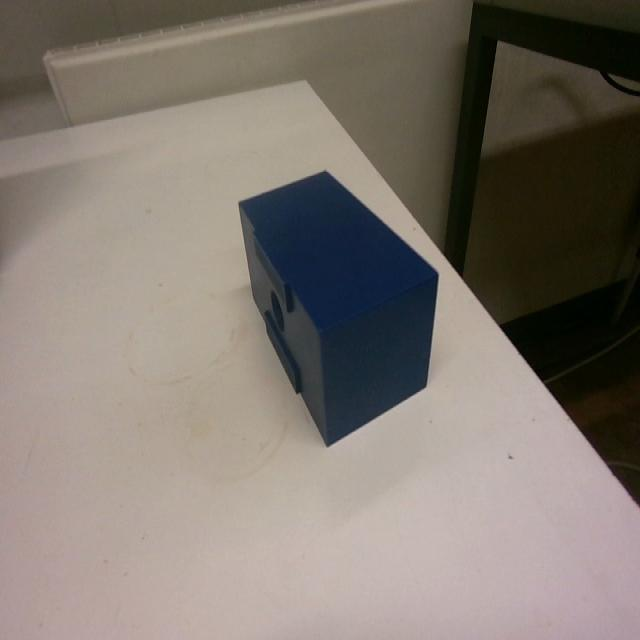Blue Cuboid: (235, 165, 440, 447)
